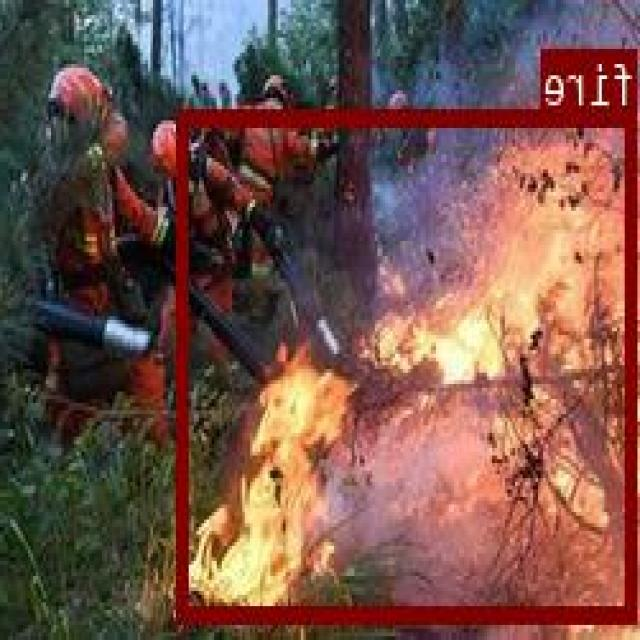fire: (180, 108, 640, 619)
